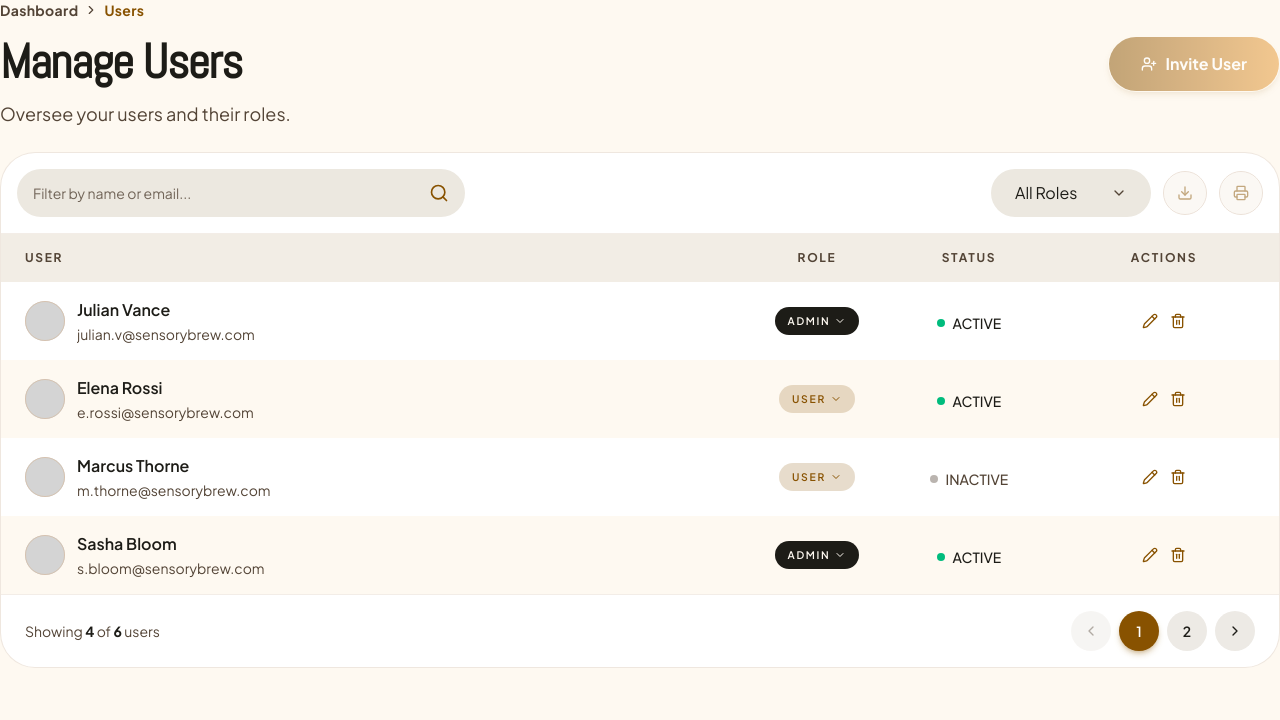
Test: Dashboard users page › shows delete API error in dialog and toast on success
Click the button named "Delete Julian". click: point(1178, 321)
box: [1166,309,1190,333]
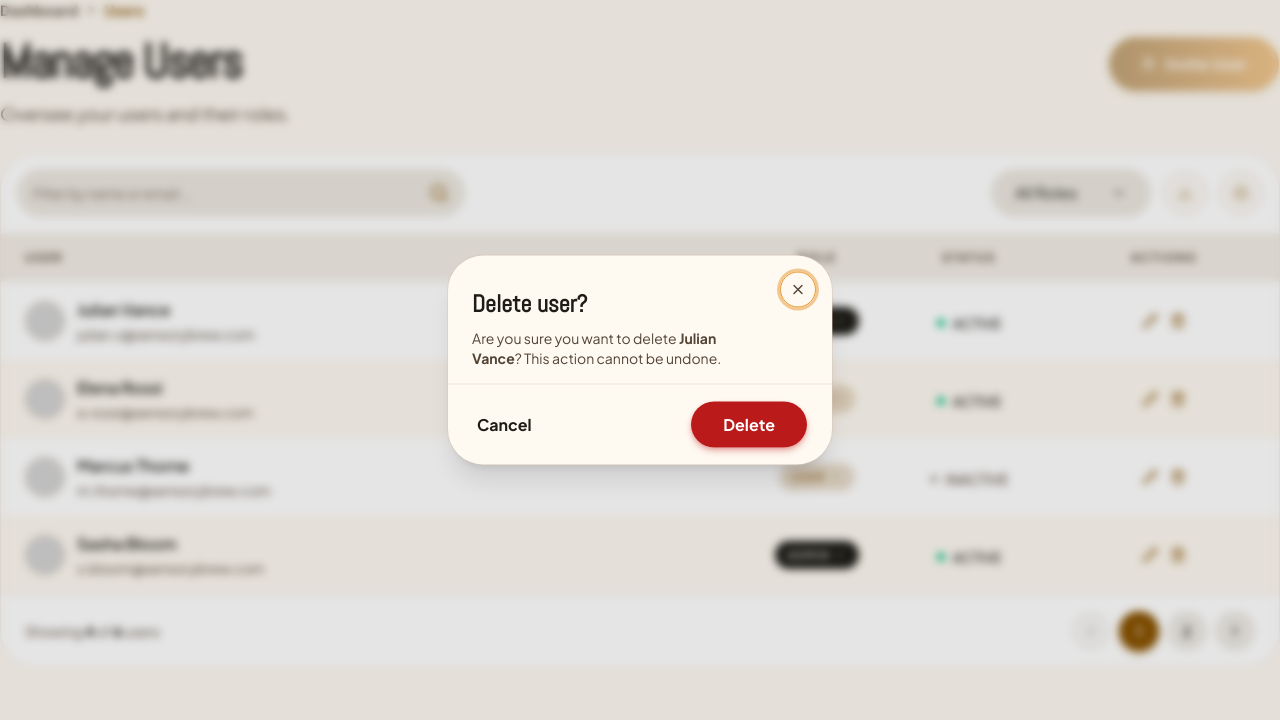
Click the button "Delete". click: point(749, 424)
box: [690,400,808,448]
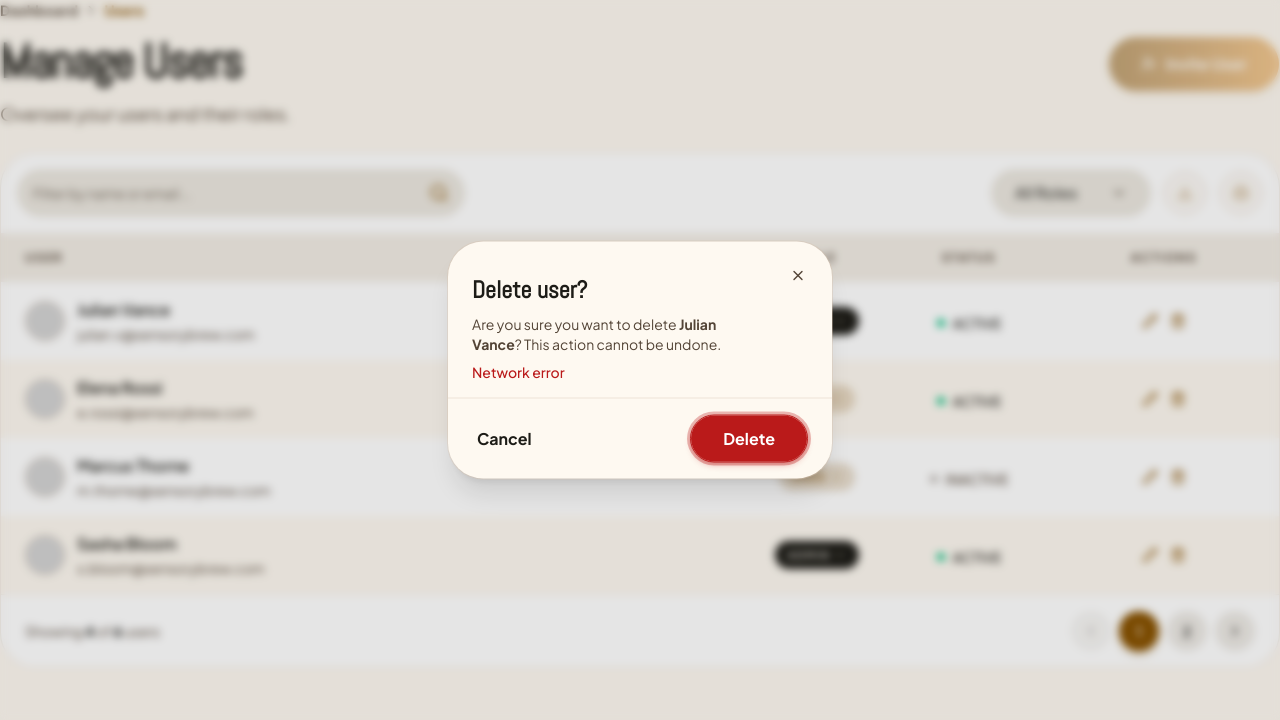
Expected: the text "Network error" is shown, [472,362,565,382]
